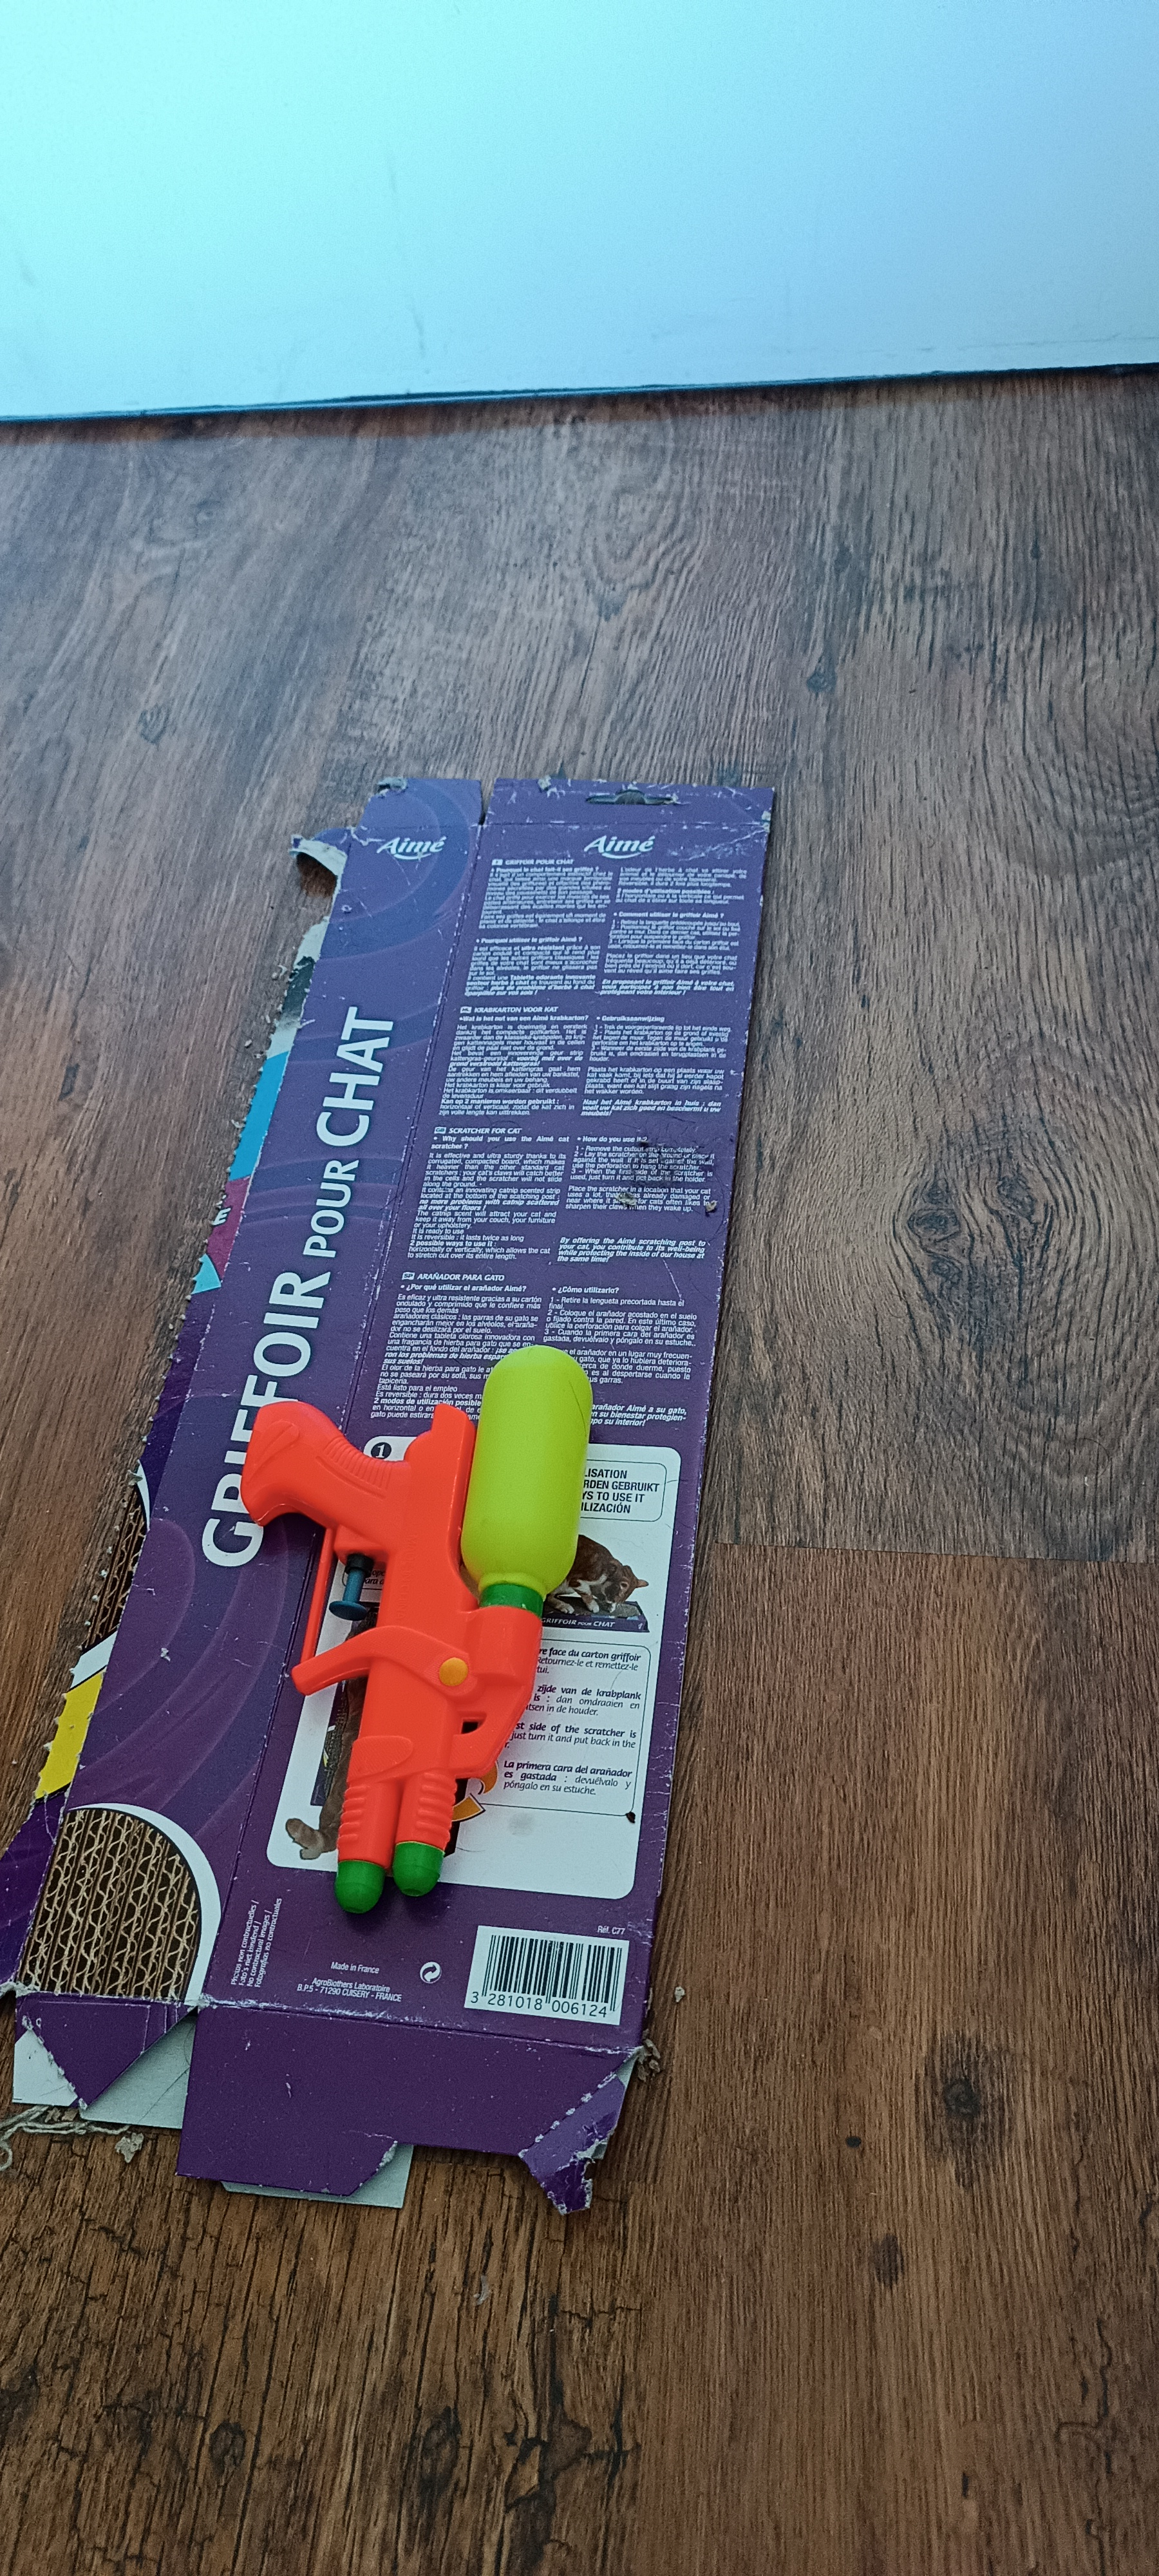Water Gun: (240, 1345, 594, 1911)
